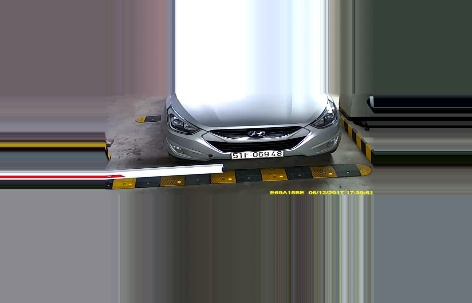plate: (232, 148, 286, 160)
